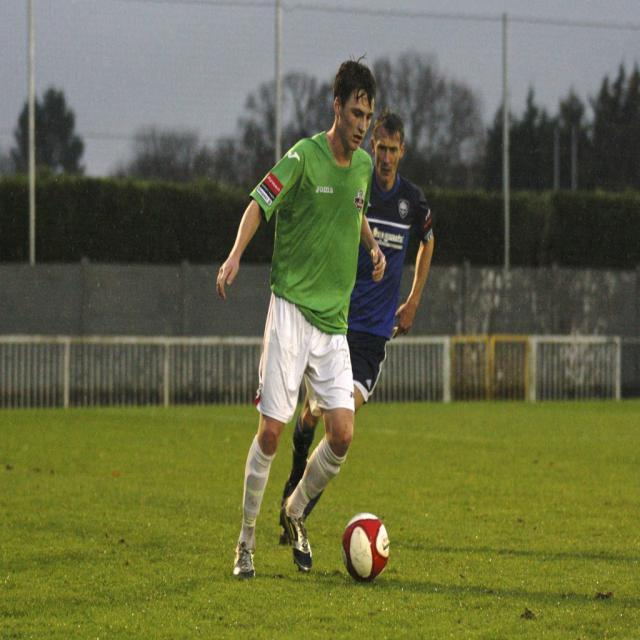football: (328, 508, 405, 594)
